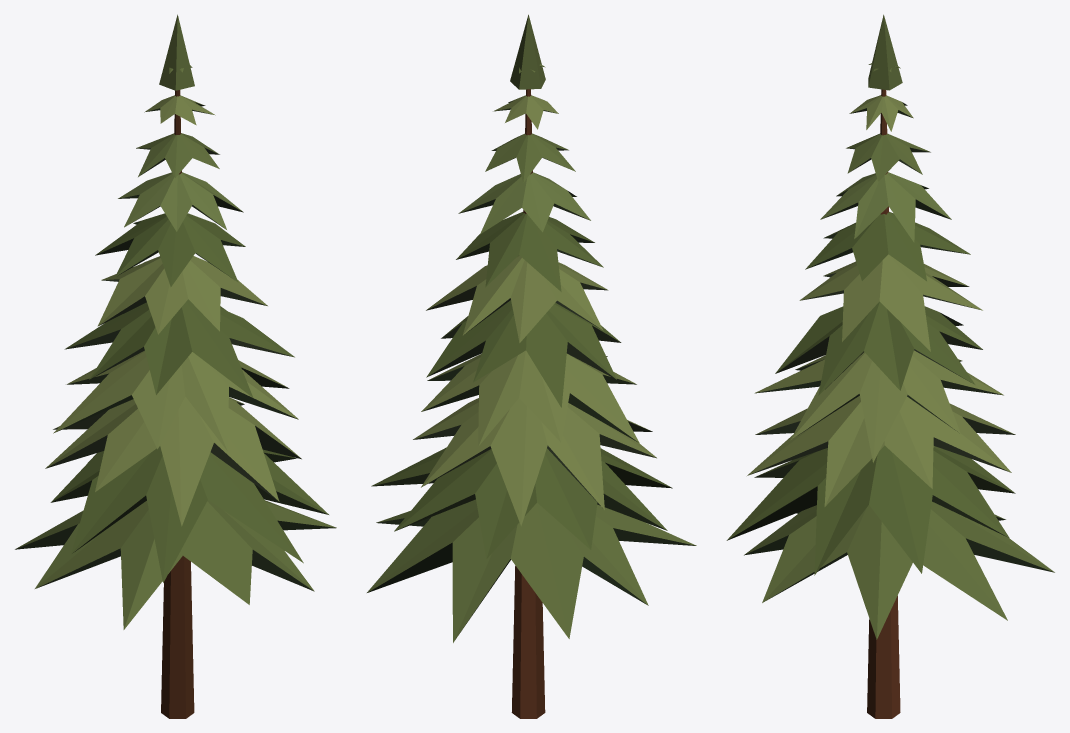
The model's file is mtn_pine.glb.
3 renders of one model, left to right at view 1: azimuth 30°, elevation 25°; view 2: azimuth 150°, elevation 25°; view 3: azimuth 270°, elevation 25°, orthographic.
Visible parts, largest first — view 1: mtn_pine; view 2: mtn_pine; view 3: mtn_pine.
Part boxes in pixels (x1,y1,x2,y2): mtn_pine: (15, 14, 336, 718); mtn_pine: (367, 14, 696, 718); mtn_pine: (726, 14, 1054, 718).
Size of the model in its own units: 6.13 by 14.2 by 6.07.
